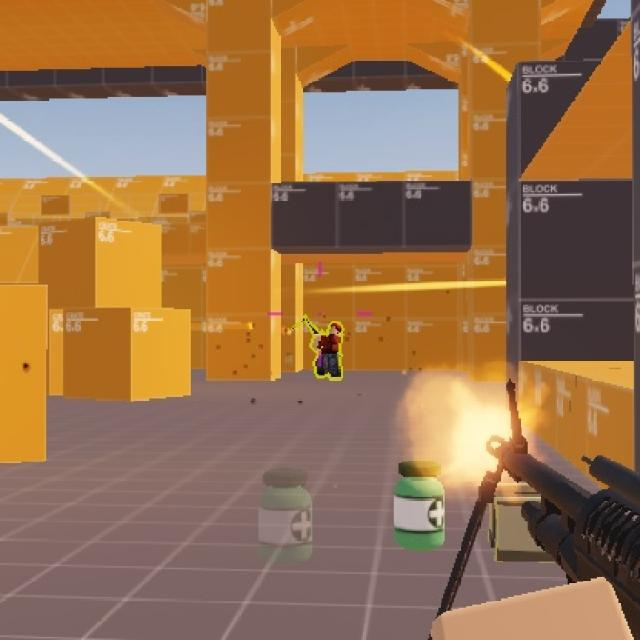player: (309, 318, 347, 384)
